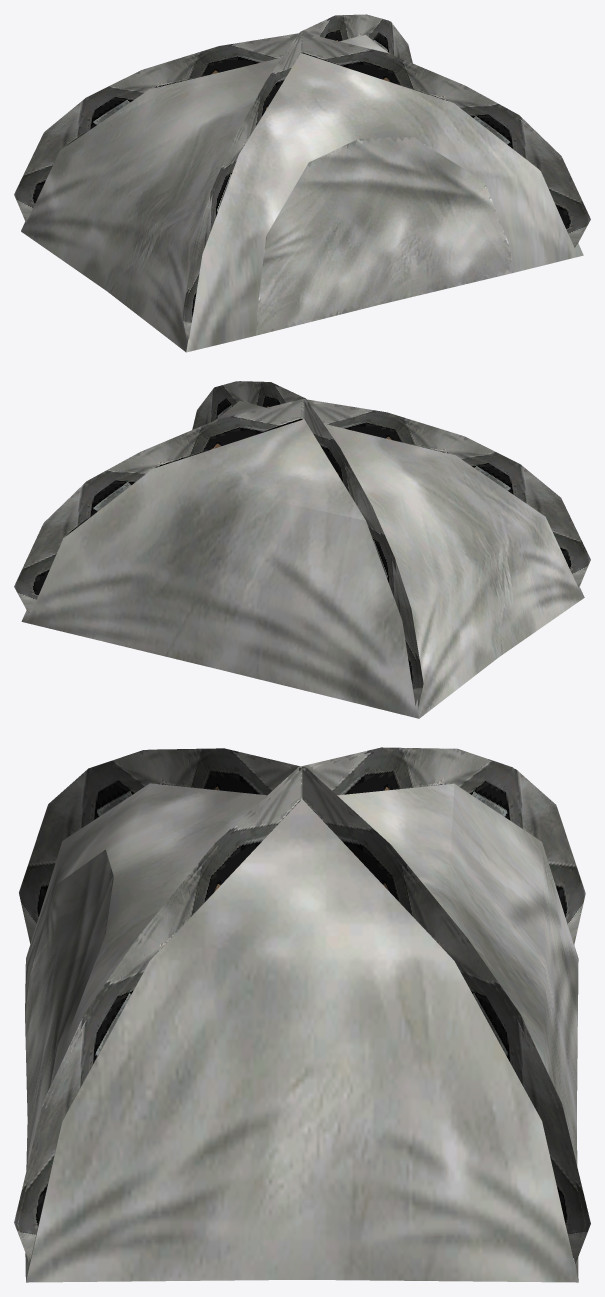
Rendered from eqp_camping_tent_s2_l2.fbx.
The picture shows the model from 3 angles, top to bottom: view 1: azimuth 30°, elevation 25°; view 2: azimuth 150°, elevation 25°; view 3: azimuth 270°, elevation 25°; orthographic projection. The views are drawn at different scales.
Visible parts, largest first — view 1: mesh_node; view 2: mesh_node; view 3: mesh_node.
Boxes of the visible parts, left/top/right/bottom form: mesh_node: left=14, top=14, right=590, bottom=352; mesh_node: left=14, top=381, right=590, bottom=718; mesh_node: left=14, top=747, right=590, bottom=1282.
Size of the model in its own units: 3.14 by 1.55 by 2.31.
